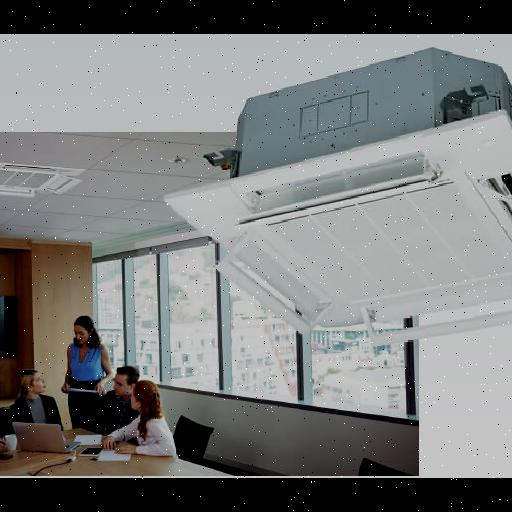4-way-ac: (156, 109, 512, 331), (0, 160, 81, 195)
